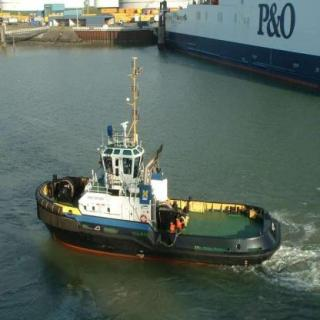Tug Boat: (36, 108, 280, 268)
